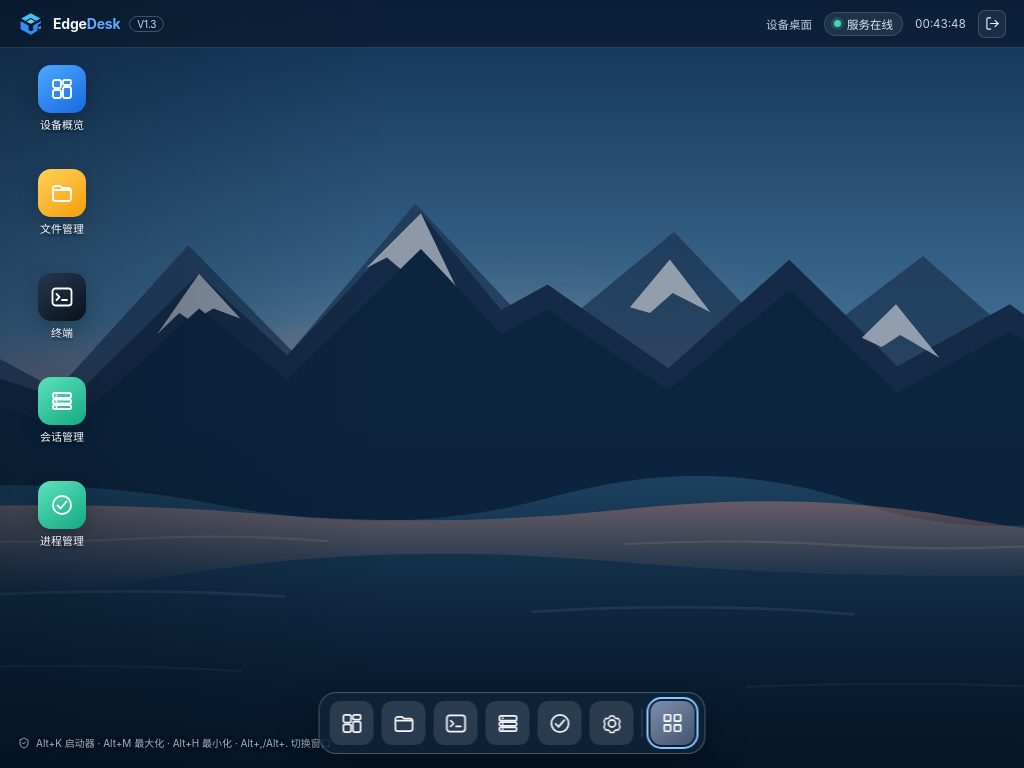
Test: DesktopShell › closes the launcher with Escape and returns focus
This screenshot has width=1024, height=768.
Click the button named "打开应用启动器" at [672, 723], box [650,701,694,745]
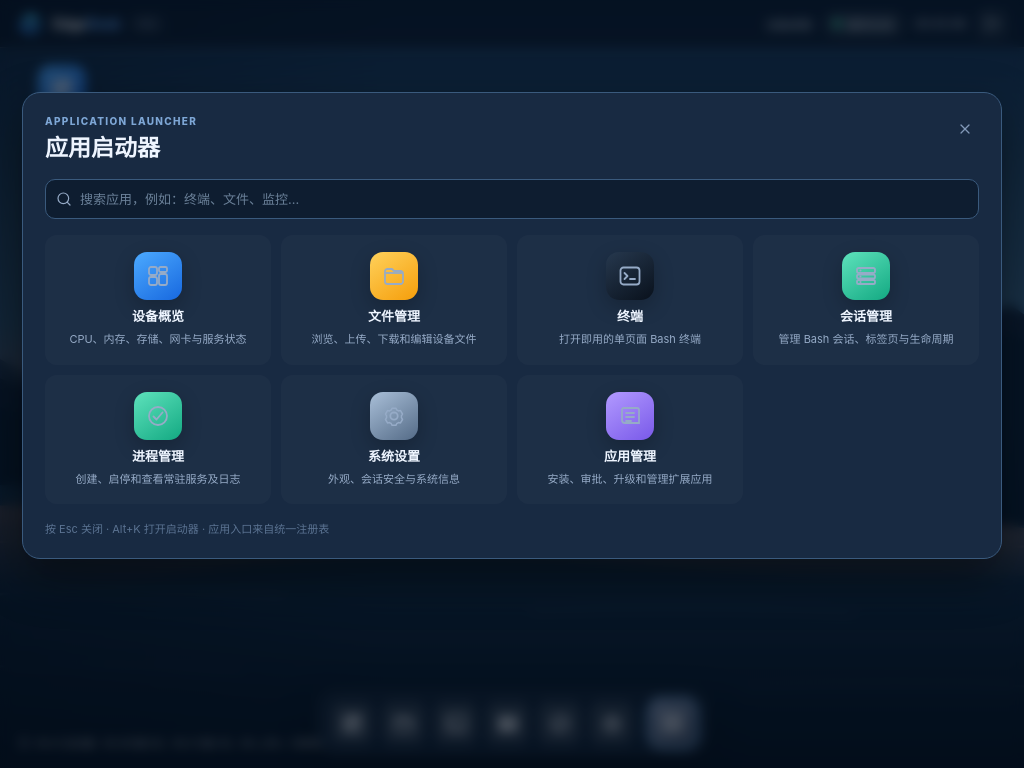
Press Escape in the search field named "搜索应用", box [80,180,968,218]
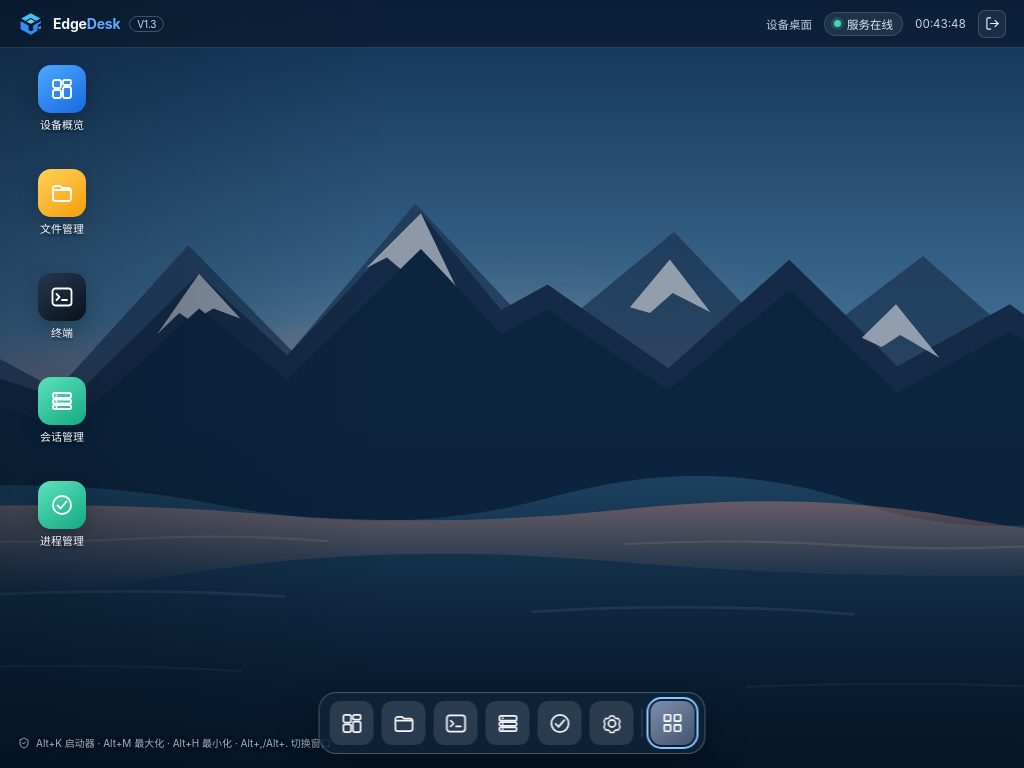
Now the dialog named "应用启动器" is gone
